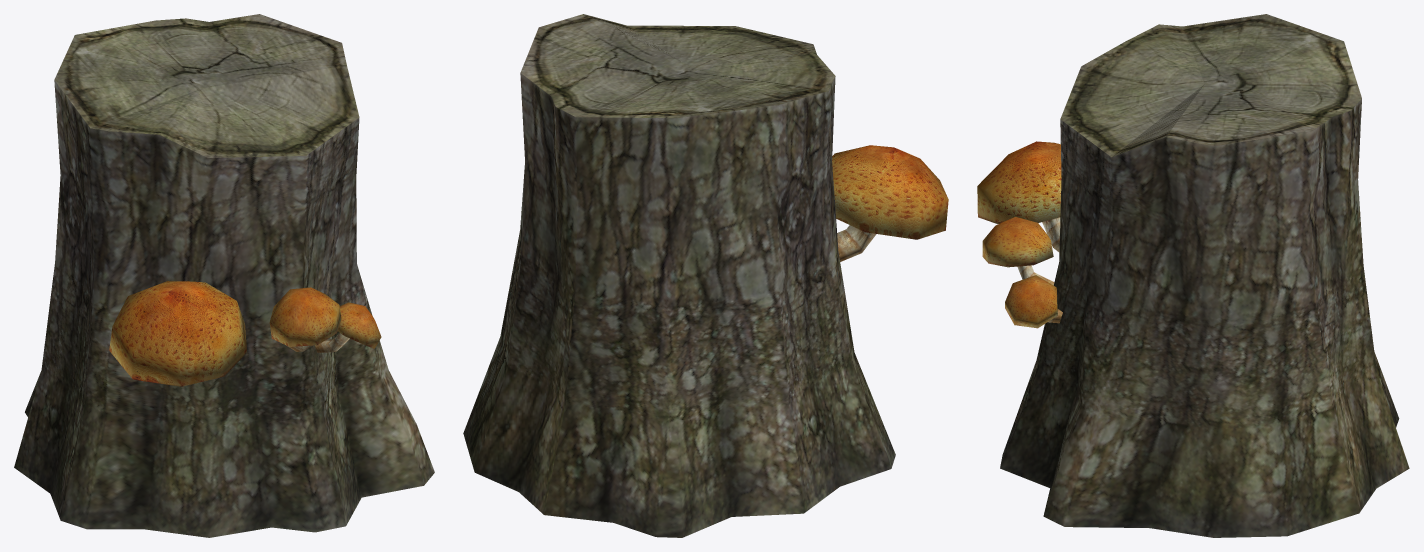
Rendered from Pholiota adiposa_m.FBX.
The picture shows the model from 3 angles, left to right: view 1: azimuth 30°, elevation 25°; view 2: azimuth 150°, elevation 25°; view 3: azimuth 270°, elevation 25°; orthographic projection. The views are drawn at different scales.
Parts seen in each view (by area): view 1: tree, Mushroom_001, Mushroom_002, Mushroom_003; view 2: tree, Mushroom_001; view 3: tree, Mushroom_001, Mushroom_002, Mushroom_003.
Boxes of the visible parts, x1,y1,x2,y2 form: tree: [14, 14, 434, 537]; Mushroom_001: [109, 281, 246, 386]; Mushroom_002: [269, 287, 341, 351]; Mushroom_003: [315, 302, 381, 352]; tree: [463, 14, 895, 537]; Mushroom_001: [832, 145, 948, 261]; tree: [1000, 14, 1409, 537]; Mushroom_001: [977, 141, 1061, 252]; Mushroom_002: [982, 217, 1054, 285]; Mushroom_003: [1005, 275, 1062, 328].
Bounding box in the file's own units: 80.07 × 83.9 × 86.29.
